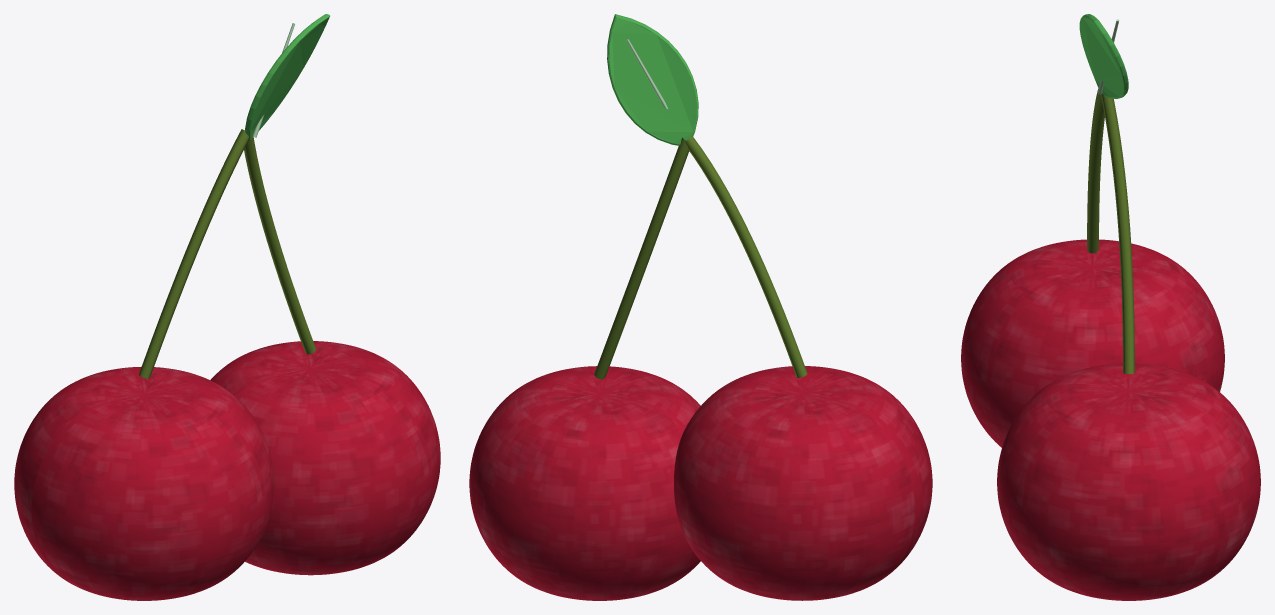
The model's file is cherry.glb.
3 views of the same model, side by side, from view 1: azimuth 30°, elevation 25°; view 2: azimuth 150°, elevation 25°; view 3: azimuth 270°, elevation 25° (orthographic).
Bounding box in the file's own units: 0.1282 × 0.1634 × 0.0801.
5 materials, 1 textured.
